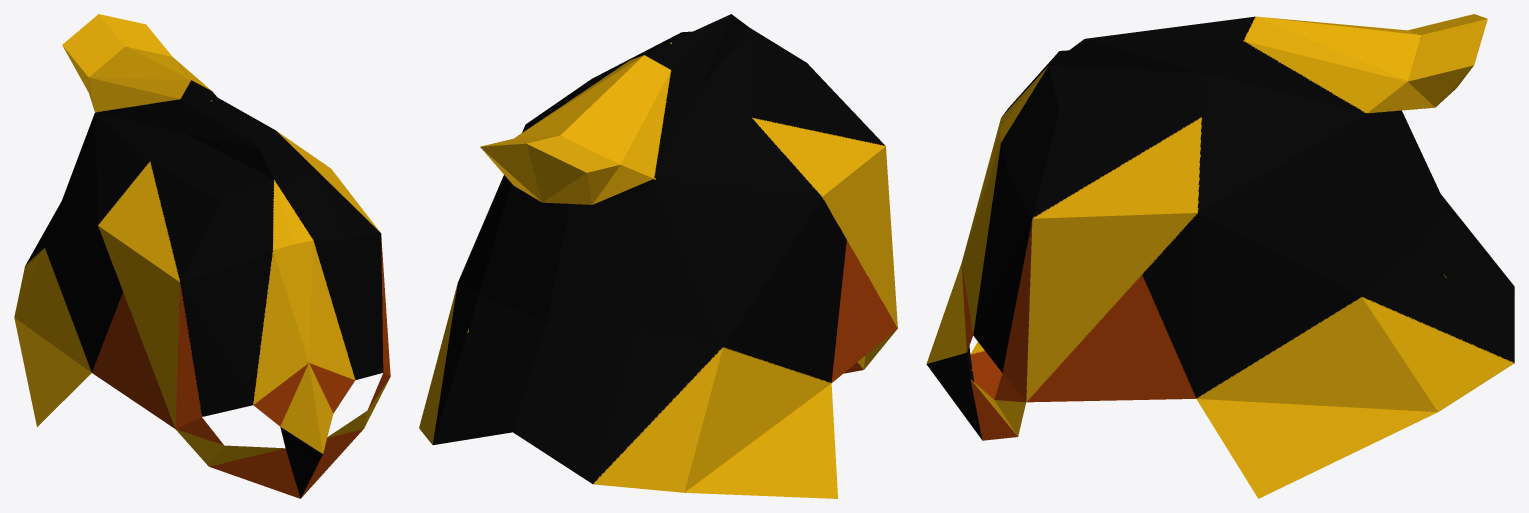
Rendered from FishHelmet1.obj.
The picture shows the model from 3 angles, left to right: view 1: azimuth 30°, elevation 25°; view 2: azimuth 150°, elevation 25°; view 3: azimuth 270°, elevation 25°; orthographic projection. The views are drawn at different scales.
Visible parts, largest first — view 1: HelmetFish_Cube.000; view 2: HelmetFish_Cube.000; view 3: HelmetFish_Cube.000.
Part boxes in pixels (left/top/right/bottom): HelmetFish_Cube.000: left=14, top=14, right=390, bottom=498; HelmetFish_Cube.000: left=419, top=14, right=897, bottom=498; HelmetFish_Cube.000: left=926, top=14, right=1514, bottom=498.
Size of the model in its own units: 0.2442 by 0.258 by 0.3242.
